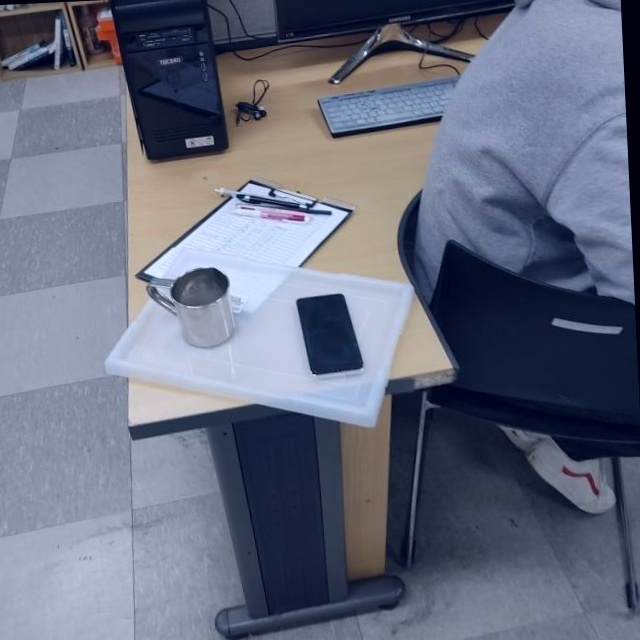cup: (146, 265, 239, 351)
phone: (294, 290, 366, 383)
